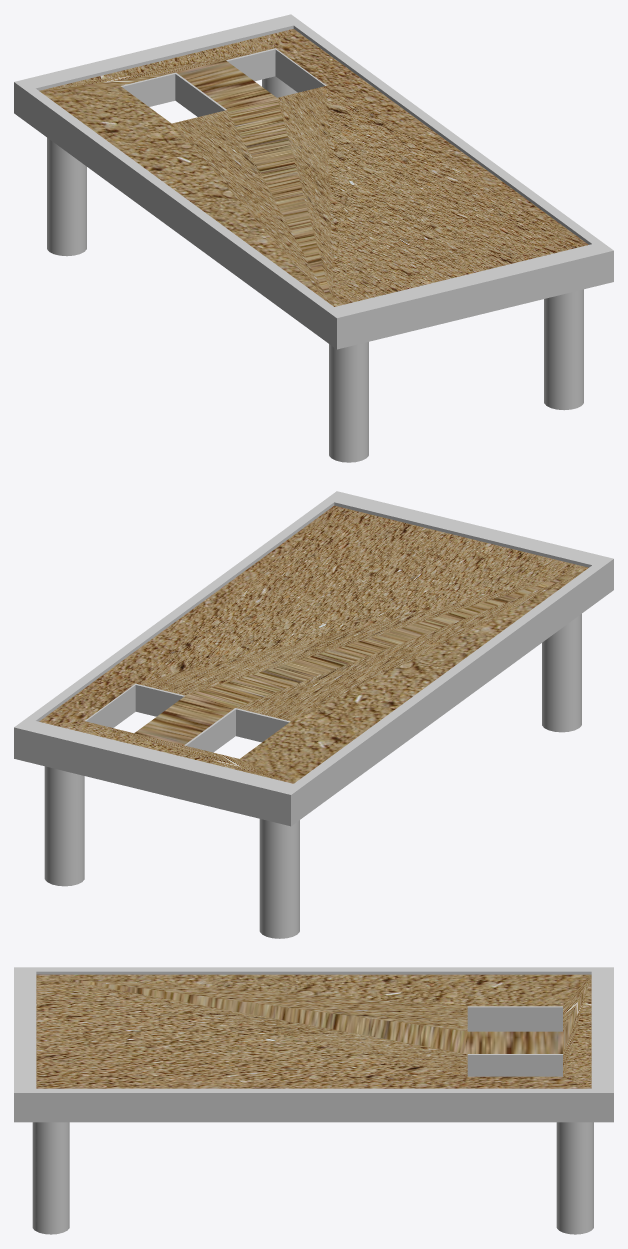
The model's file is Table004.FBX.
The picture shows the model from 3 angles, top to bottom: view 1: azimuth 30°, elevation 25°; view 2: azimuth 150°, elevation 25°; view 3: azimuth 270°, elevation 25°; orthographic projection. The views are drawn at different scales.
Visible parts, largest first — view 1: TerrainTable, Box001, Cylinder001, Cylinder002, Cylinder004; view 2: TerrainTable, Box001, Cylinder004, Cylinder003, Cylinder001; view 3: TerrainTable, Box001, Cylinder002, Cylinder003.
Part boxes in pixels (x1,y1,x2,y2): TerrainTable: (39, 29, 588, 306); Box001: (14, 14, 613, 349); Cylinder001: (329, 342, 368, 462); Cylinder002: (544, 289, 583, 410); Cylinder004: (47, 137, 86, 256); TerrainTable: (39, 505, 588, 783); Box001: (14, 491, 613, 826); Cylinder004: (259, 819, 299, 938); Cylinder003: (44, 766, 84, 886); Cylinder001: (542, 614, 581, 732); TerrainTable: (36, 974, 591, 1088); Box001: (14, 967, 613, 1122); Cylinder002: (32, 1122, 69, 1234); Cylinder003: (556, 1122, 593, 1234).
Size of the model in its own units: 37.08 by 20.24 by 74.81.
1 material, 1 textured.
